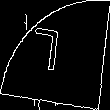L_S: (38, 28, 72, 82)
